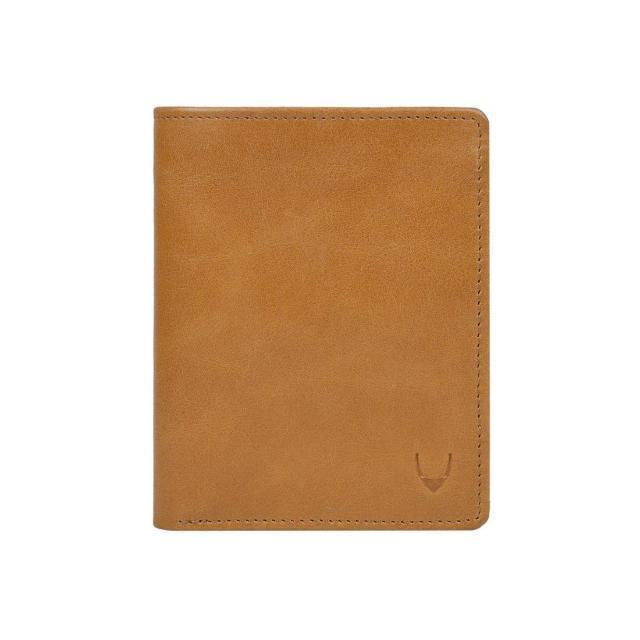wallet: (155, 105, 488, 529)
